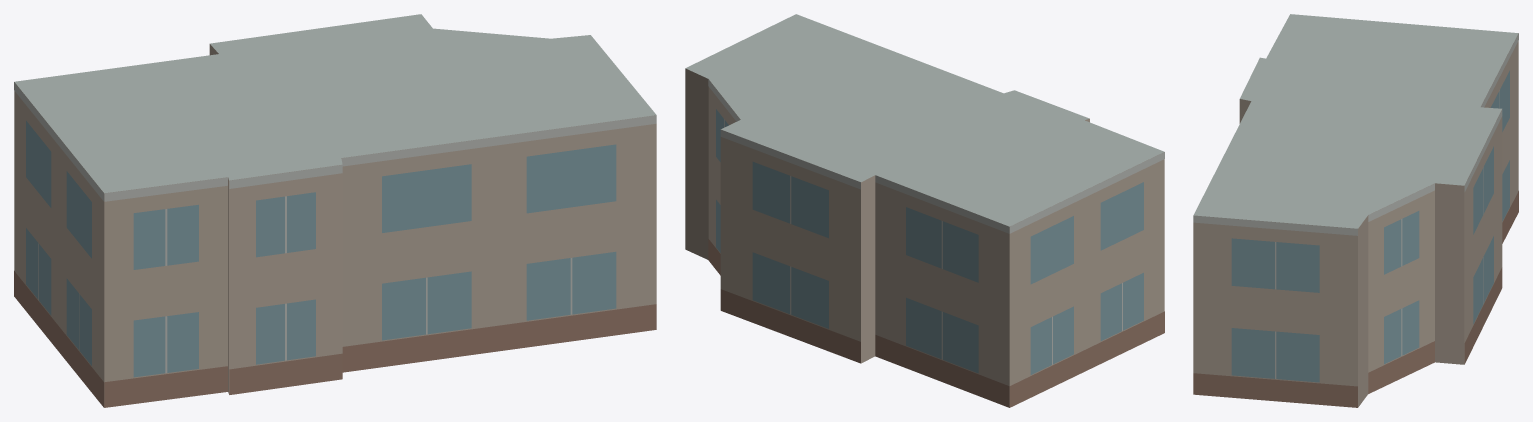
File: survey-upis-32534837.glb
3 renders of one model, left to right at view 1: azimuth 30°, elevation 25°; view 2: azimuth 150°, elevation 25°; view 3: azimuth 270°, elevation 25°, orthographic. The views are drawn at different scales.
Visible parts, largest first — view 1: survey-upis-32534837.tmp; view 2: survey-upis-32534837.tmp; view 3: survey-upis-32534837.tmp.
Boxes of the visible parts, box(x1,y1,x2,y2) form: survey-upis-32534837.tmp: box(14, 14, 656, 407); survey-upis-32534837.tmp: box(685, 14, 1164, 407); survey-upis-32534837.tmp: box(1193, 14, 1518, 407).
Bounding box in the file's own units: 15.69 × 6.1 × 10.05.
